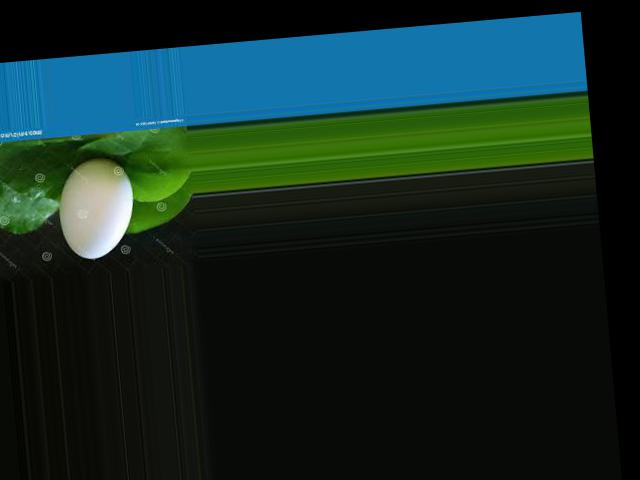egg: (55, 155, 138, 260)
